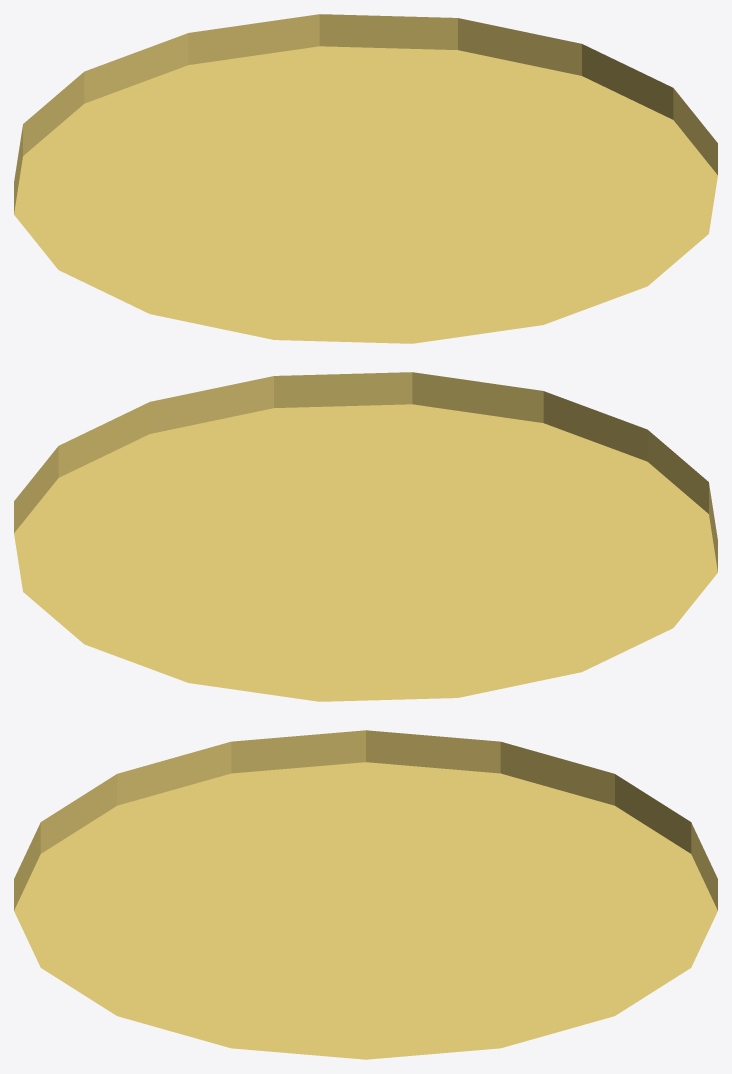
The model's file is pizza.glb.
3 renders of one model, top to bottom at view 1: azimuth 30°, elevation 25°; view 2: azimuth 150°, elevation 25°; view 3: azimuth 270°, elevation 25°, orthographic.
Parts seen in each view (by area): view 1: Pizza; view 2: Pizza; view 3: Pizza.
Boxes of the visible parts, x1=… form: Pizza: x1=14, y1=14, x2=717, y2=343; Pizza: x1=14, y1=372, x2=717, y2=701; Pizza: x1=14, y1=730, x2=717, y2=1059.
Size of the model in its own units: 2 by 0.1 by 2.
